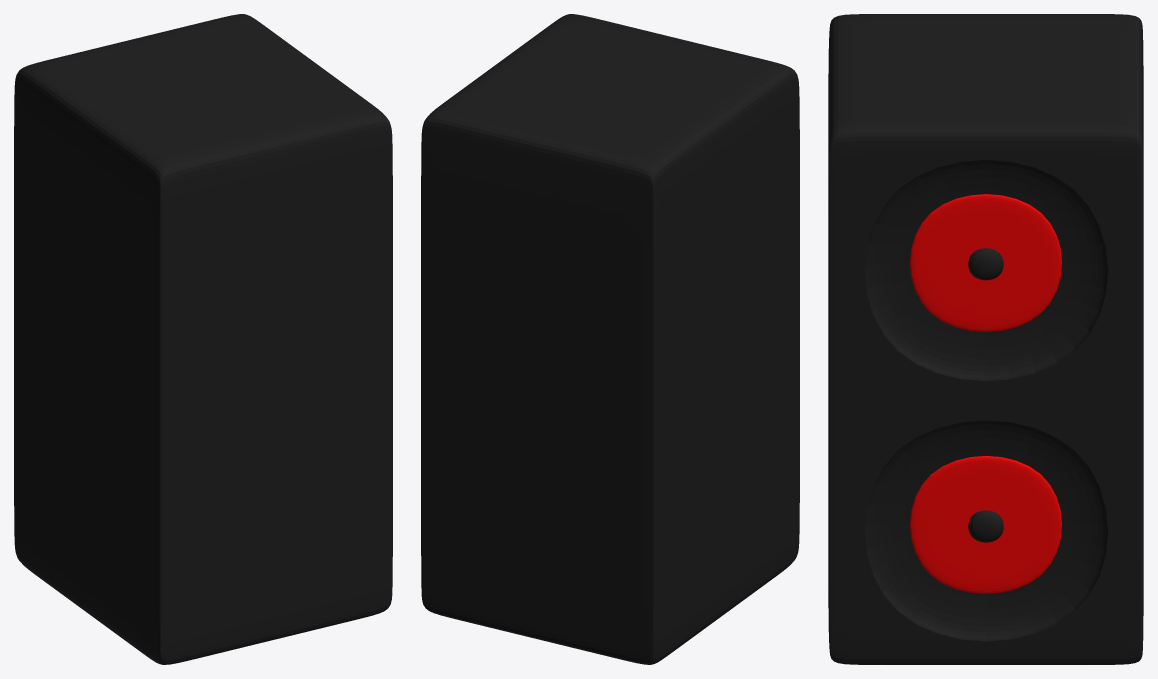
File: SwaggyBox.fbx
3 views of the same model, side by side, from view 1: azimuth 30°, elevation 25°; view 2: azimuth 150°, elevation 25°; view 3: azimuth 270°, elevation 25° (orthographic). The views are drawn at different scales.
Parts seen in each view (by area): view 1: Case; view 2: Case; view 3: Case, Cube.004, Cube.002, Cube.006, Cube.005.
Part boxes in pixels (x1,y1,x2,y2): Case: [14, 14, 392, 664]; Case: [421, 14, 799, 664]; Case: [828, 14, 1143, 664]; Cube.004: [910, 456, 1061, 593]; Cube.002: [910, 194, 1061, 332]; Cube.006: [968, 510, 1003, 542]; Cube.005: [968, 248, 1003, 280].
Size of the model in its own units: 97.46 by 200 by 106.
